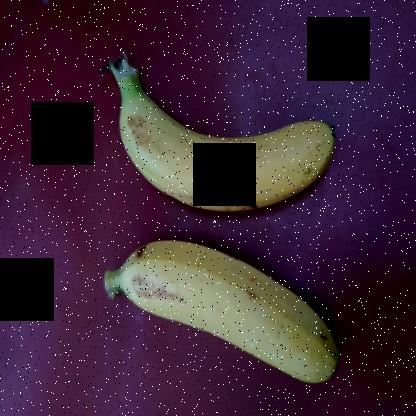freshripe: (114, 236, 349, 396)
ripe: (114, 56, 334, 221)
